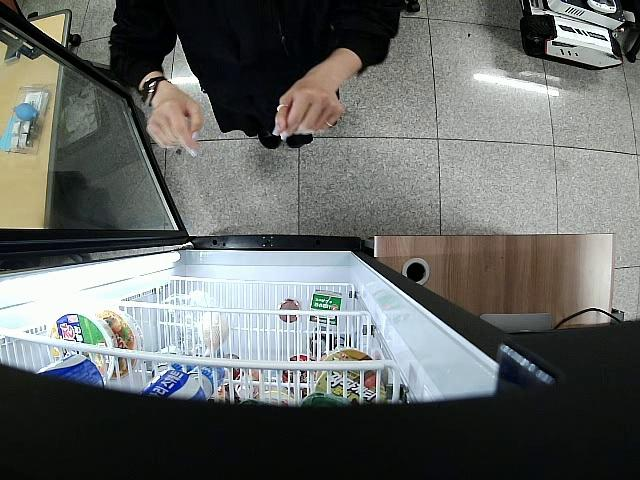00_hand: (272, 70, 343, 140), (145, 82, 203, 156)
